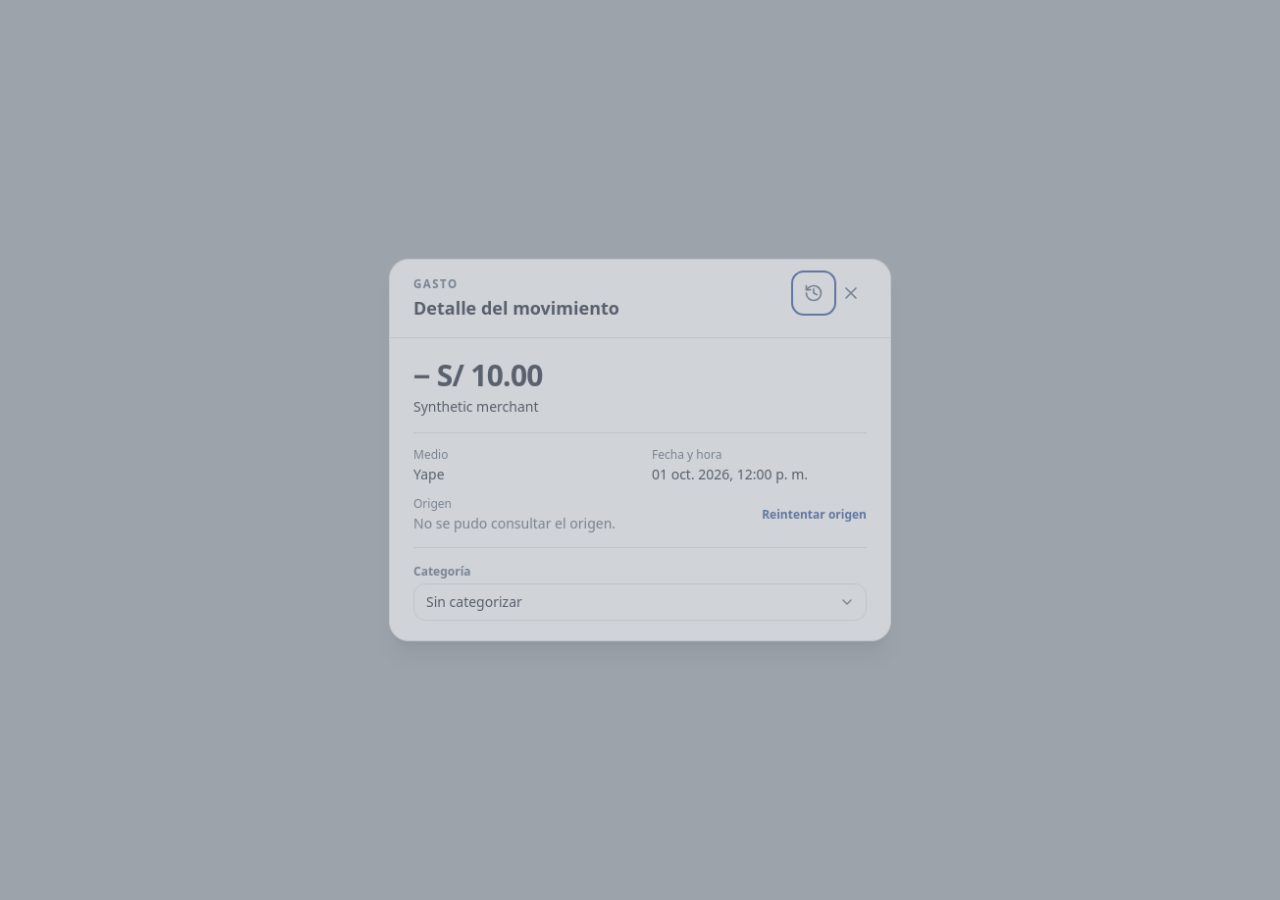
Test: retains the changed category and save action after failure so it can be retried
Select "Nueva categoría" in the dropdown labelled "Categoría". click: (640, 602)
box: x1=413 y1=584 x2=867 y2=621
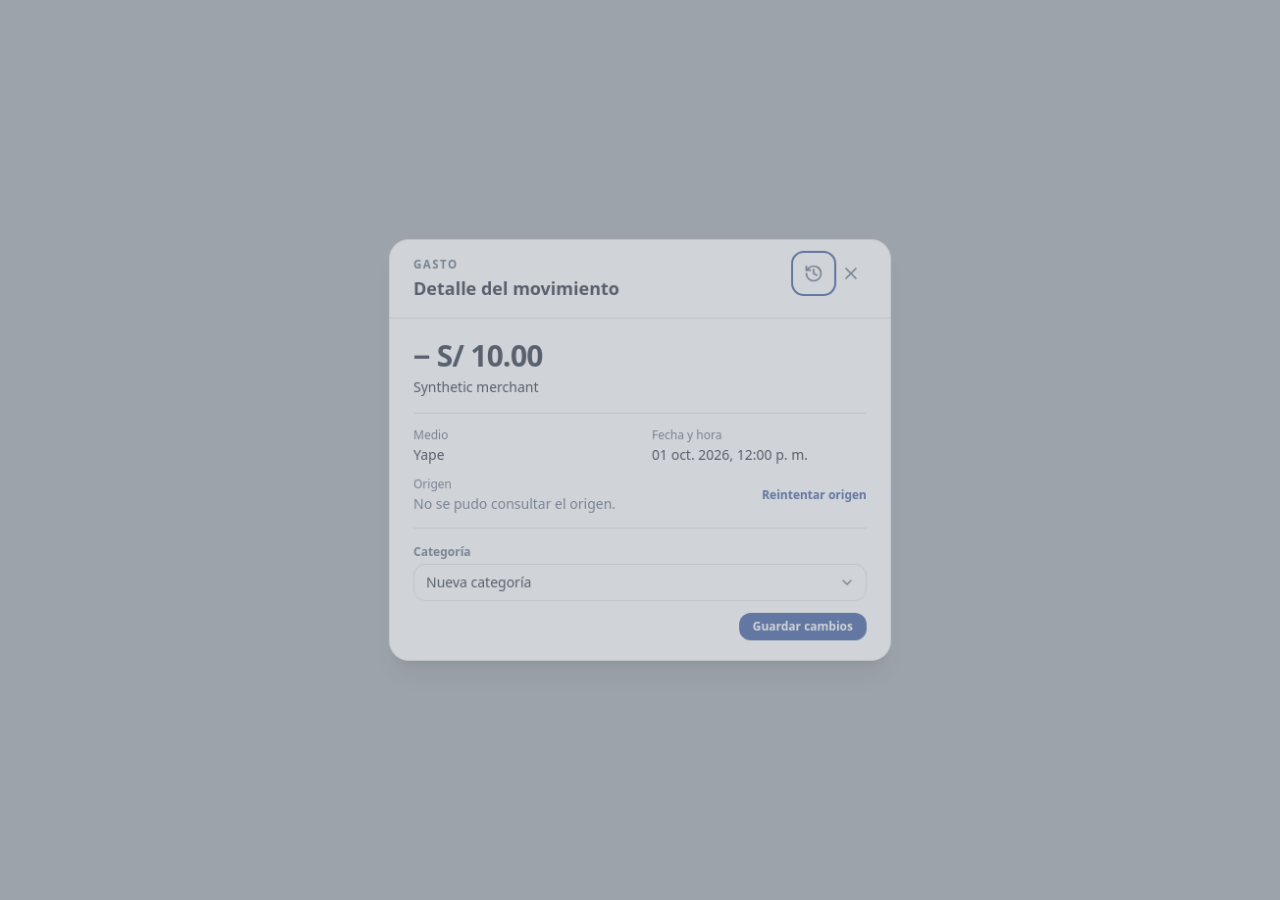
Click the button "Guardar cambios". click: (803, 627)
box: x1=739 y1=613 x2=867 y2=640
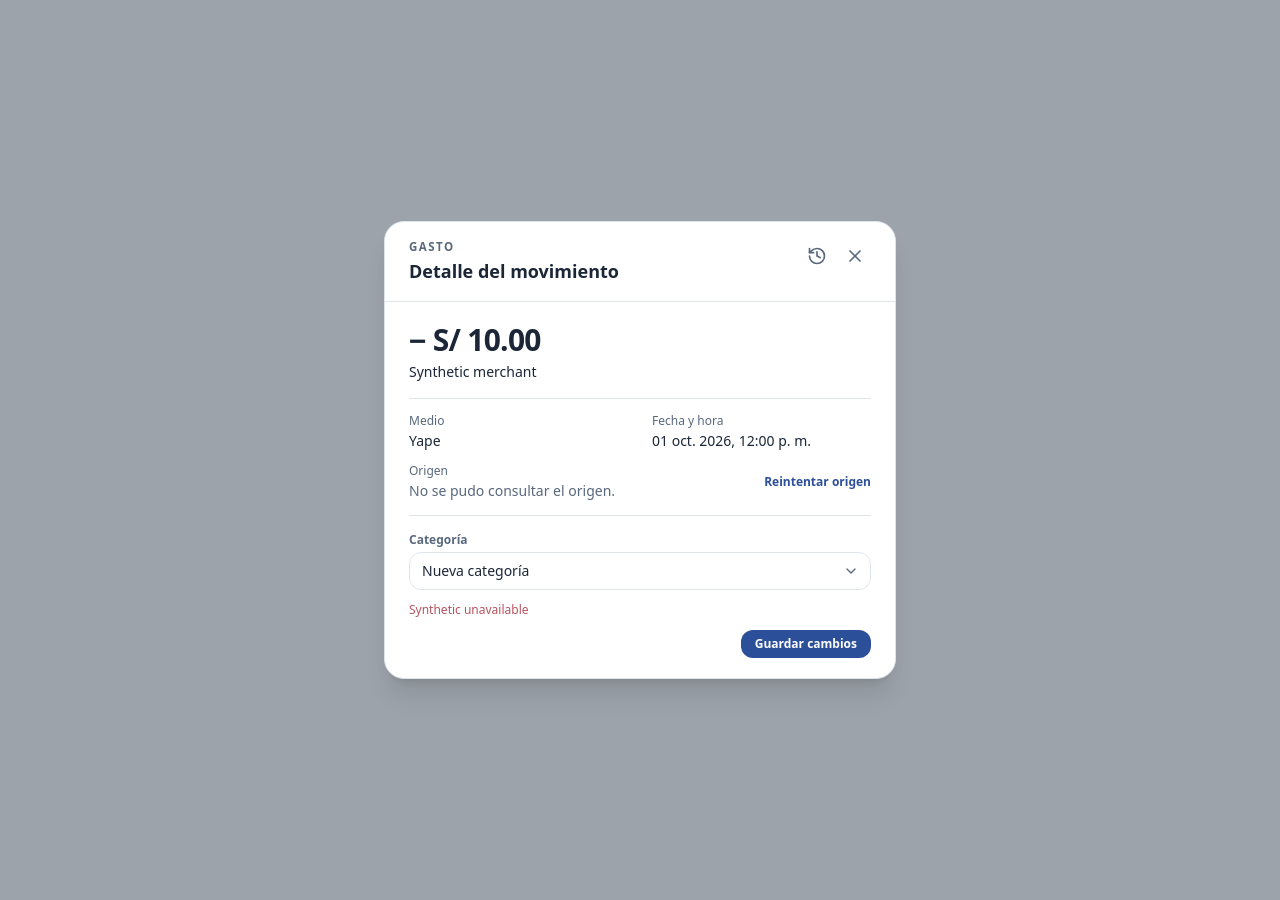
Now the message "Synthetic unavailable" is shown, box x1=409 y1=601 x2=528 y2=618
Click the button "Guardar cambios". click: (806, 644)
box: x1=741 y1=630 x2=871 y2=658
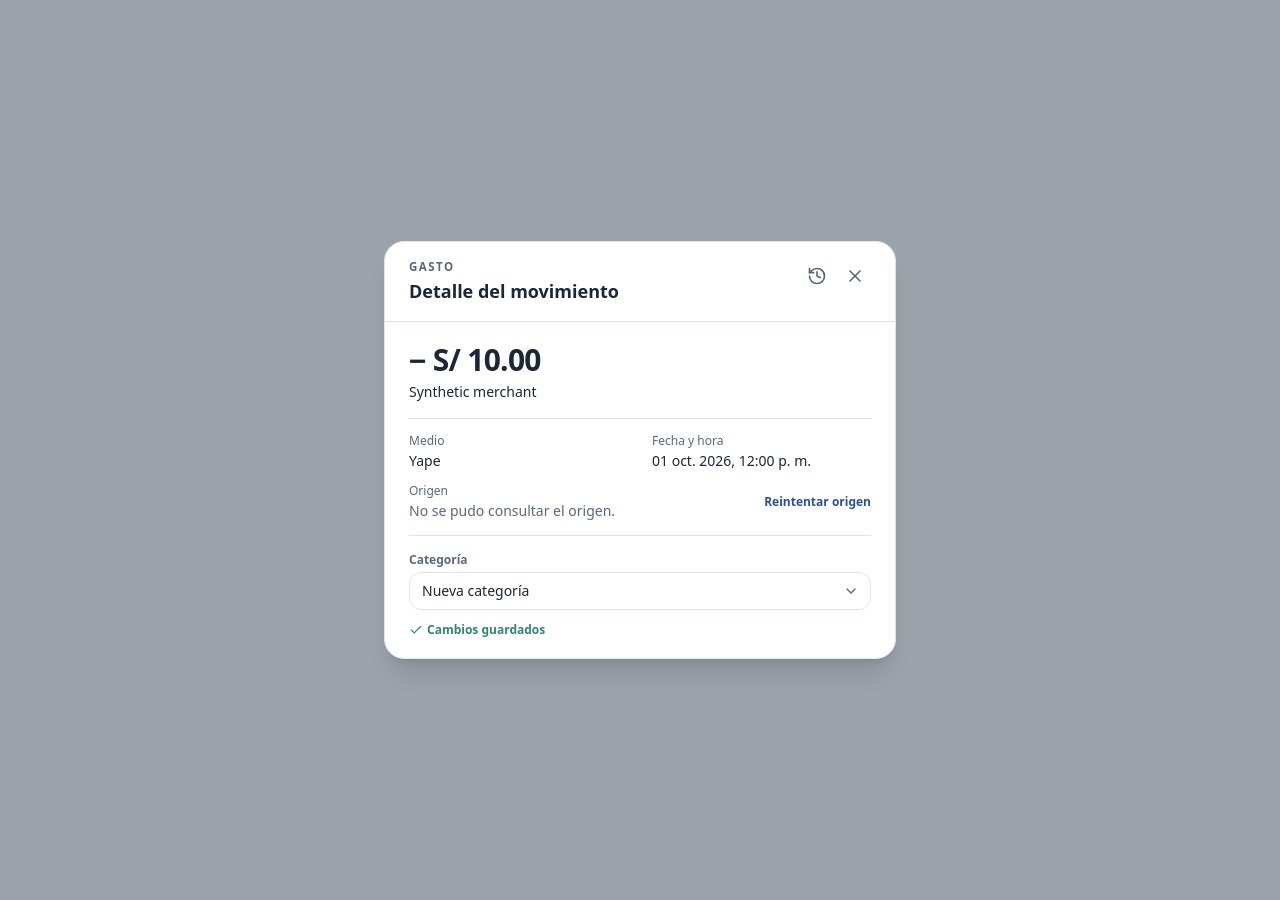
Now the text "Cambios guardados" is shown, box x1=409 y1=622 x2=545 y2=638
Now the button "Guardar cambios" is gone
